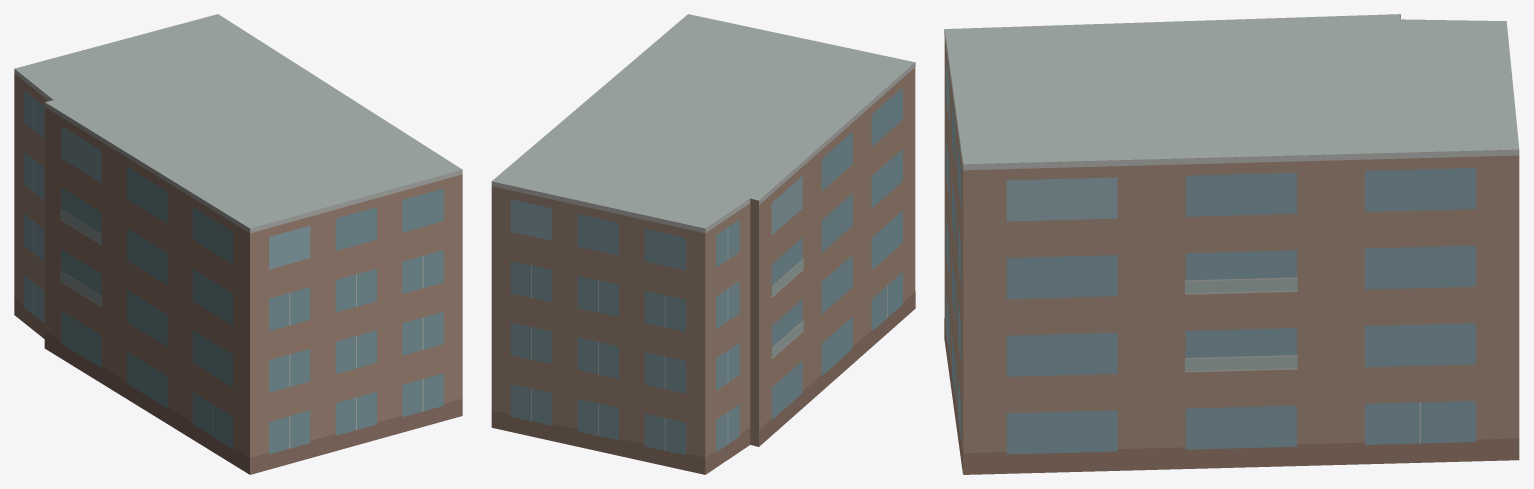
The model's file is survey-upis-32921753.glb.
The picture shows the model from 3 angles, left to right: view 1: azimuth 30°, elevation 25°; view 2: azimuth 150°, elevation 25°; view 3: azimuth 270°, elevation 25°; orthographic projection. The views are drawn at different scales.
Visible parts, largest first — view 1: survey-upis-32921753.tmp; view 2: survey-upis-32921753.tmp; view 3: survey-upis-32921753.tmp.
Boxes of the visible parts, bbox=[...] form: survey-upis-32921753.tmp: bbox=[14, 14, 462, 474]; survey-upis-32921753.tmp: bbox=[491, 14, 915, 474]; survey-upis-32921753.tmp: bbox=[944, 14, 1519, 474].
Bounding box in the file's own units: 13.19 × 12.7 × 21.31.
